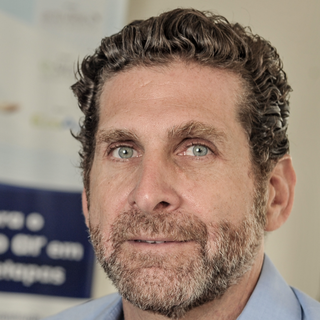eye: (167, 139, 220, 162), (101, 139, 144, 163)
